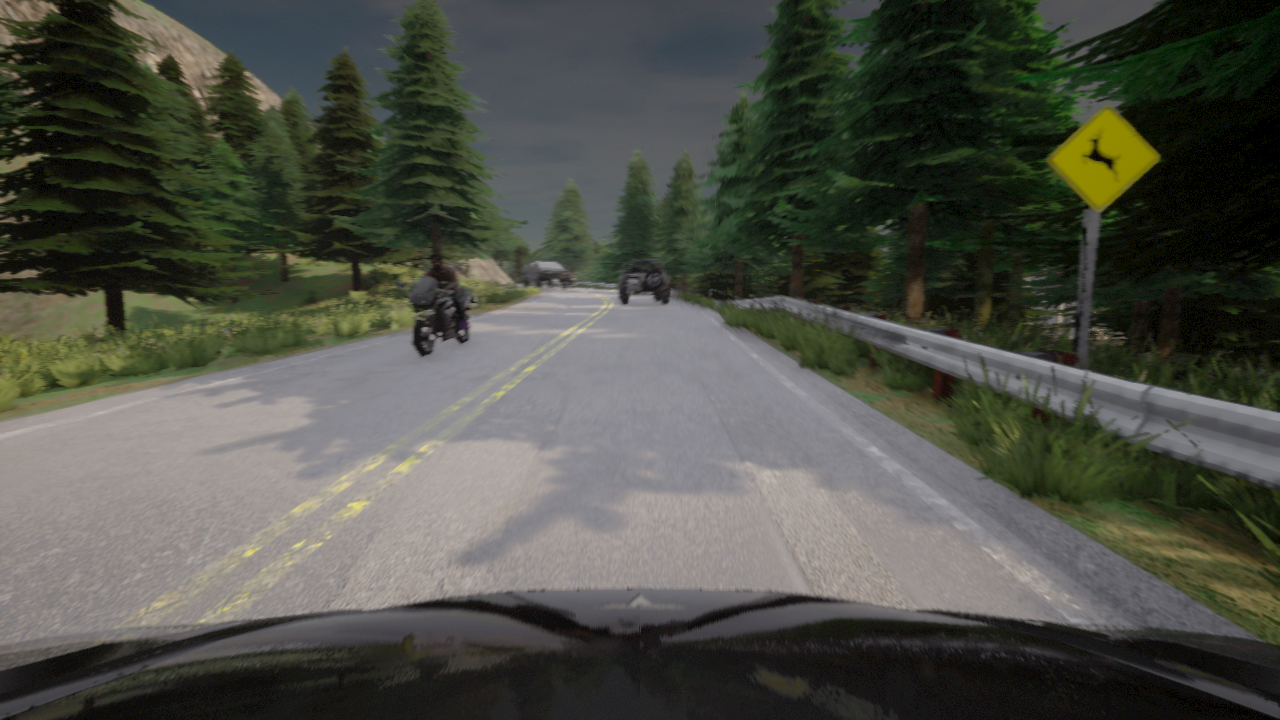cyclist: (0, 588, 1279, 719), (395, 276, 477, 356), (619, 258, 670, 303), (523, 260, 568, 289), (568, 276, 575, 287), (1051, 331, 1063, 337)
